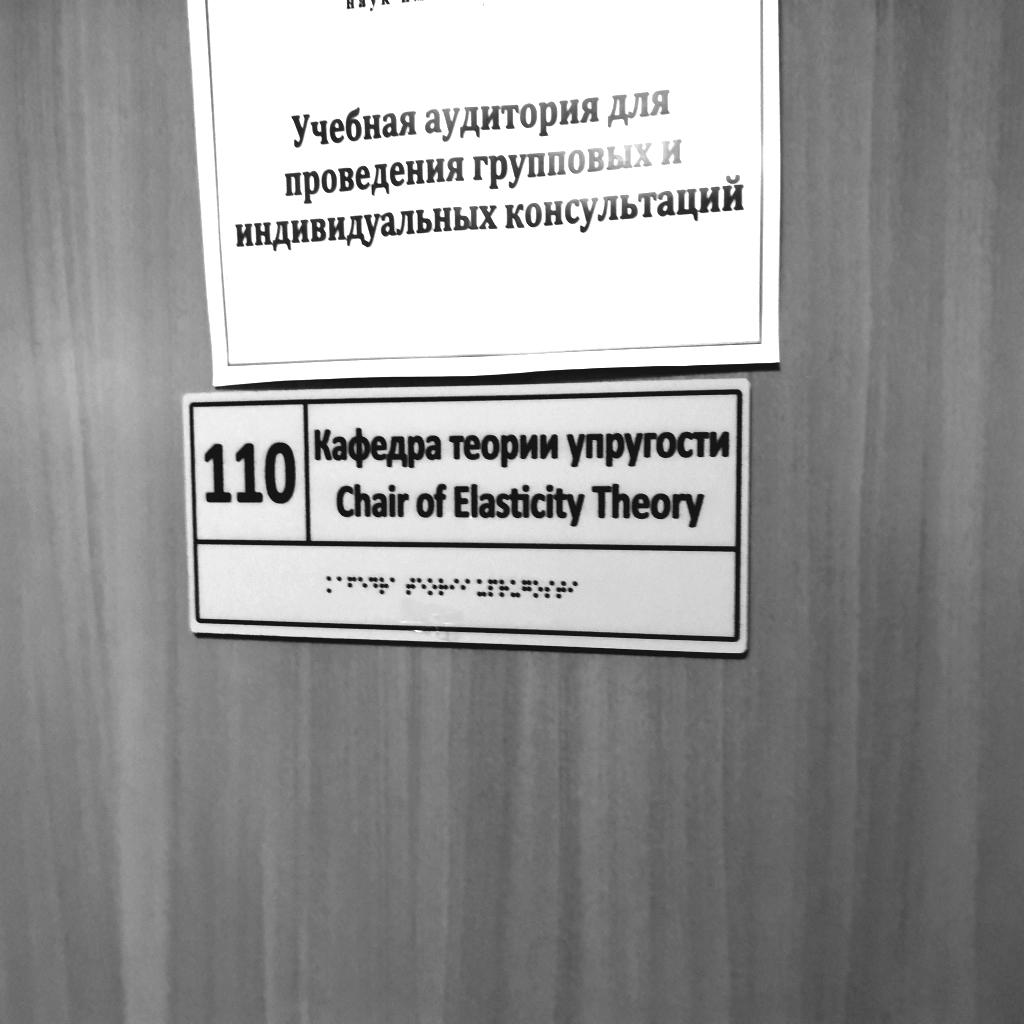_y: (510, 579, 520, 598), (477, 579, 486, 597)
a: (337, 576, 347, 593), (390, 577, 398, 594)
d: (369, 577, 378, 594)
e: (358, 577, 367, 595), (417, 578, 425, 596)
f: (348, 576, 356, 594)
g: (522, 580, 532, 598)
i: (568, 581, 577, 599), (450, 579, 459, 596), (461, 579, 470, 596)
k: (326, 576, 336, 594)
o: (534, 580, 543, 598), (428, 578, 437, 595)
p: (488, 579, 497, 597)
r: (438, 578, 448, 596), (499, 579, 509, 597), (380, 577, 389, 594)
s: (545, 581, 554, 599)
t: (556, 581, 566, 599), (406, 578, 415, 595)
